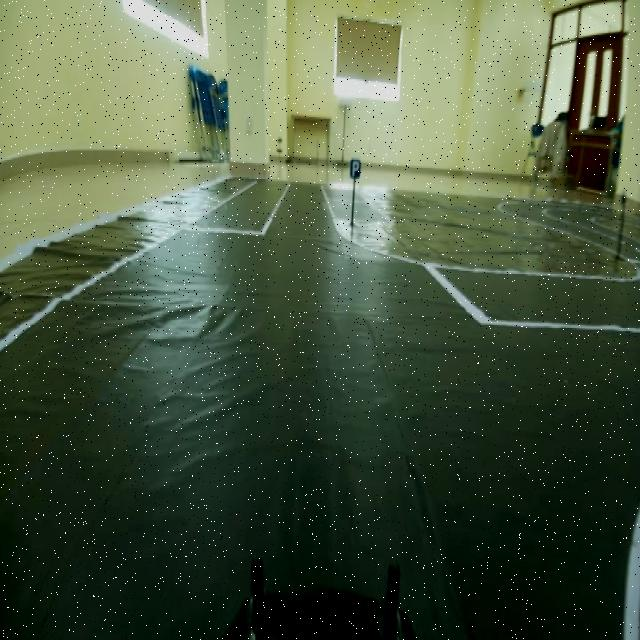parking: (347, 156, 364, 183)
